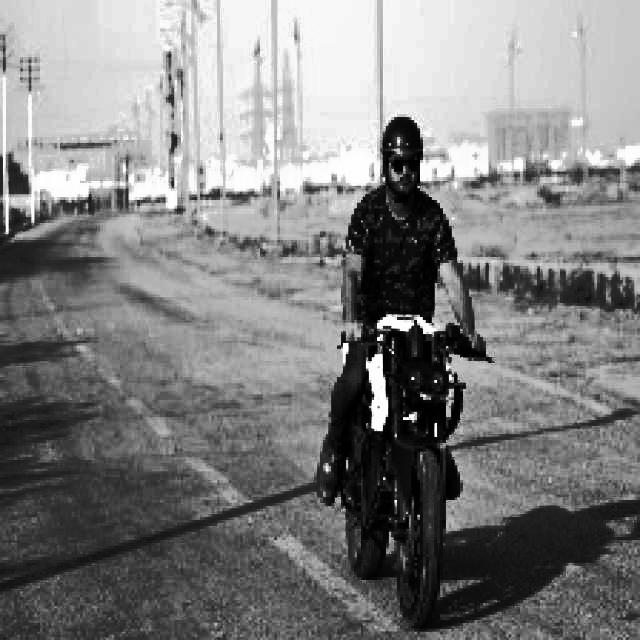Bike: (356, 289, 457, 623)
